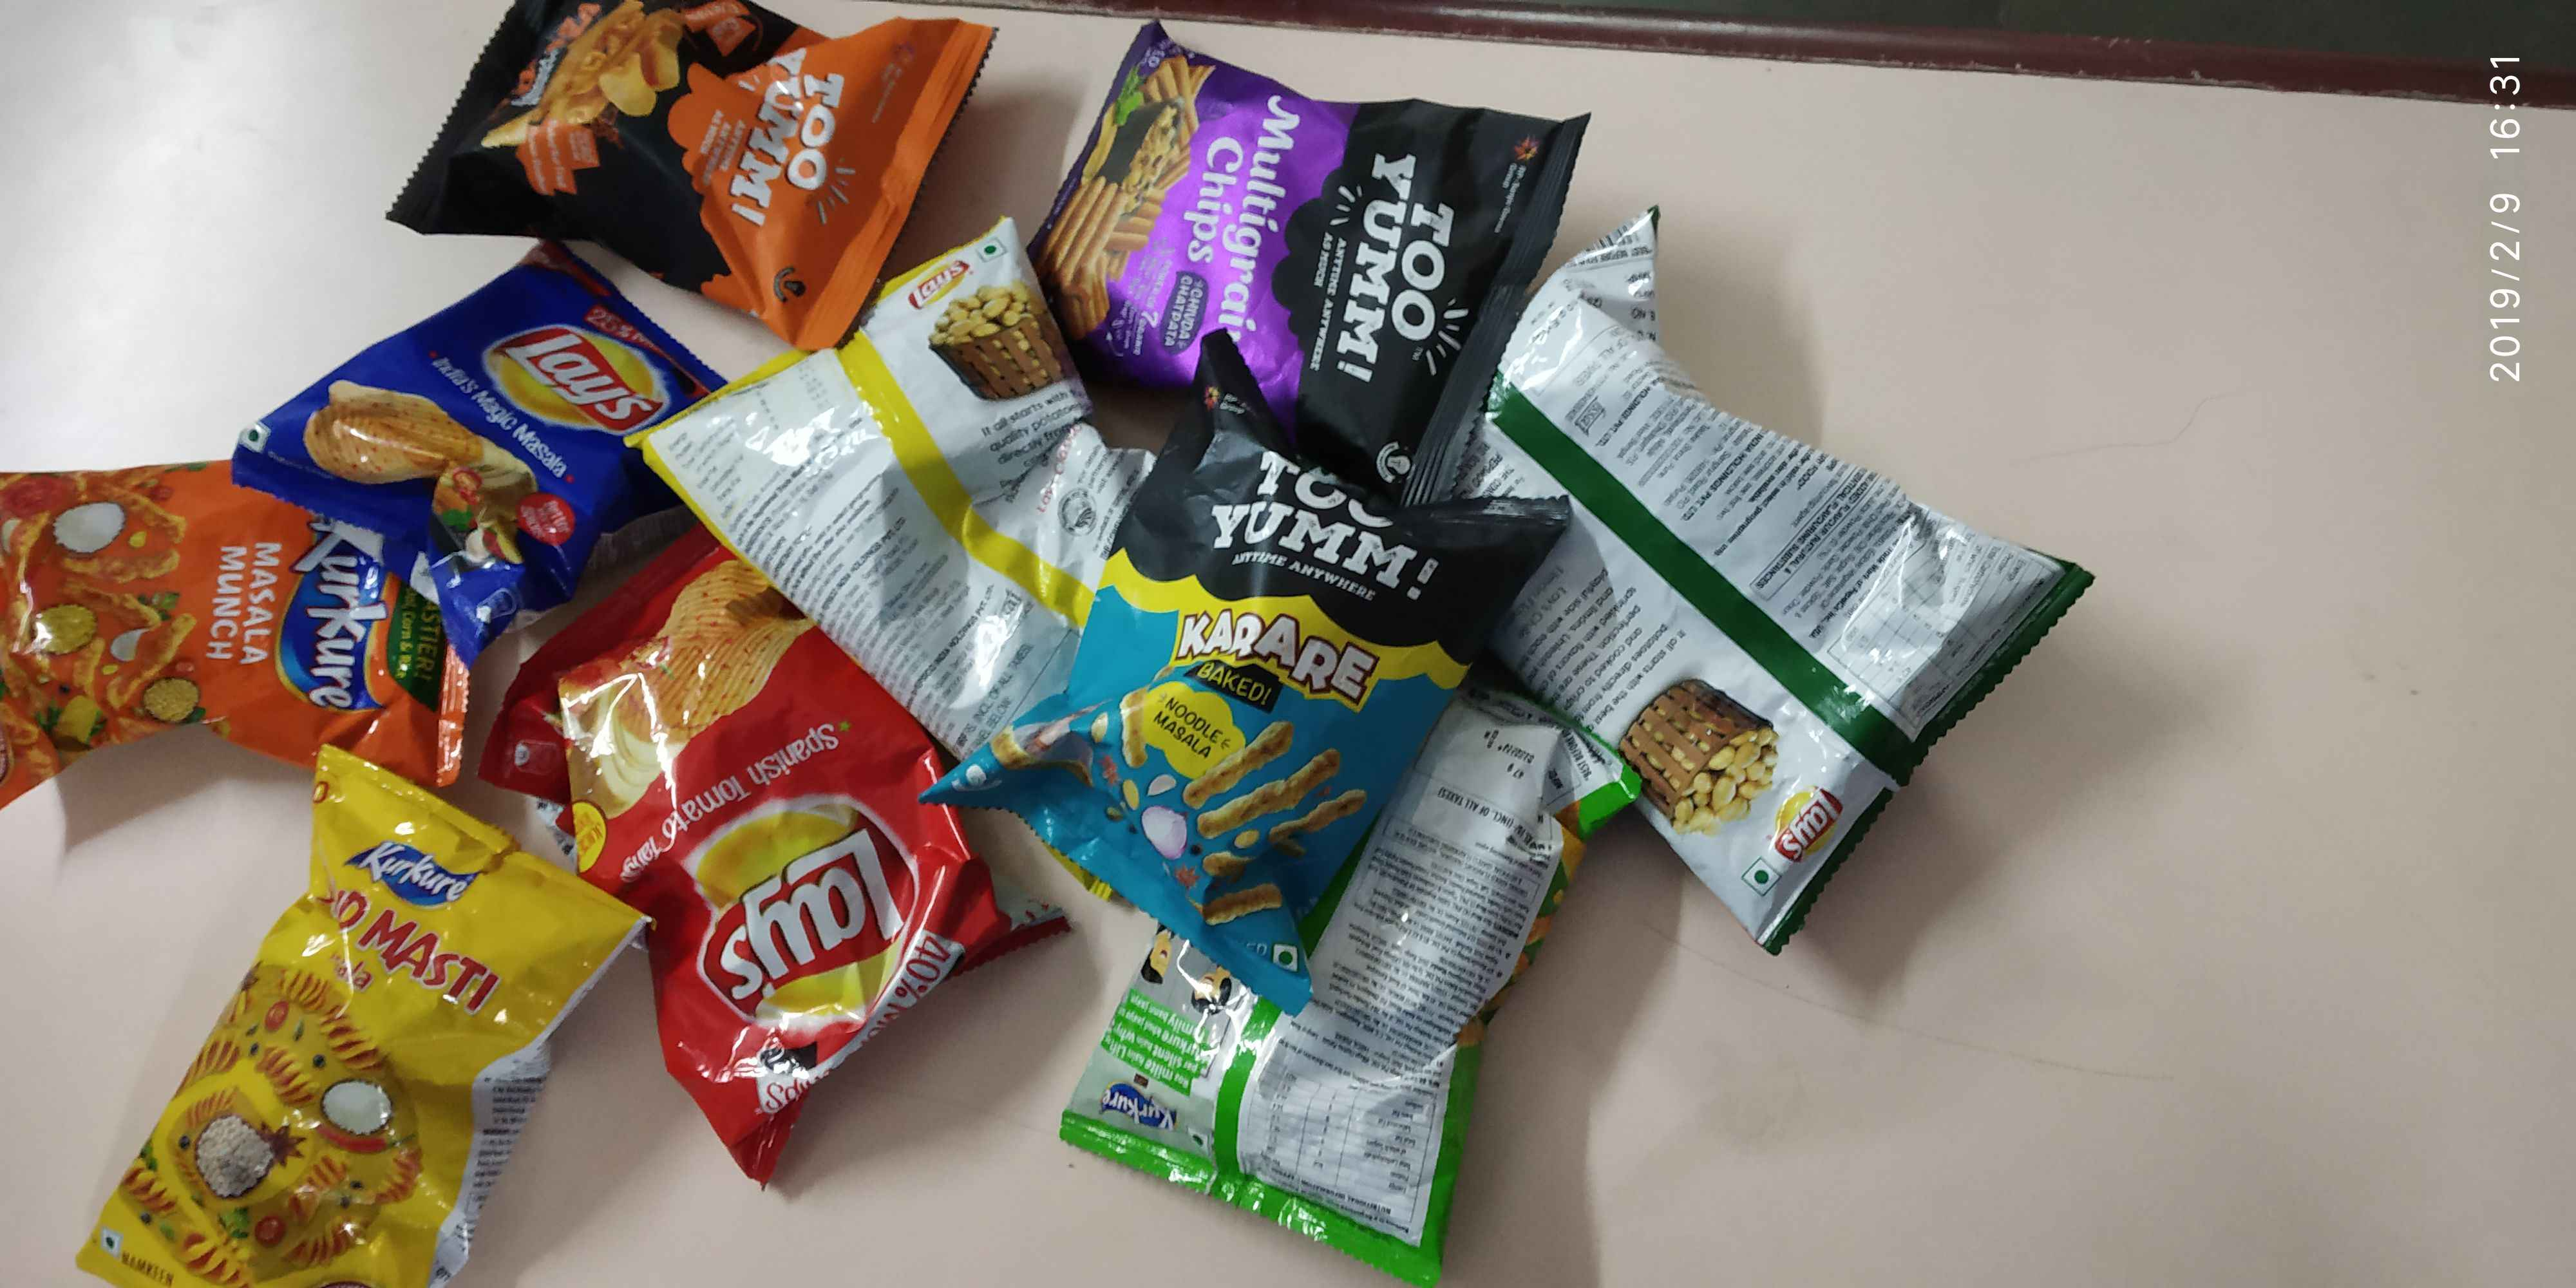Lays: (659, 797, 951, 981), (486, 317, 682, 437), (1764, 780, 1858, 874), (910, 261, 981, 317)
kurkure: (274, 516, 406, 743), (340, 833, 490, 927), (1094, 1076, 1184, 1142)
tooyumm: (1209, 421, 1449, 619), (1322, 130, 1467, 396), (715, 36, 858, 223)
